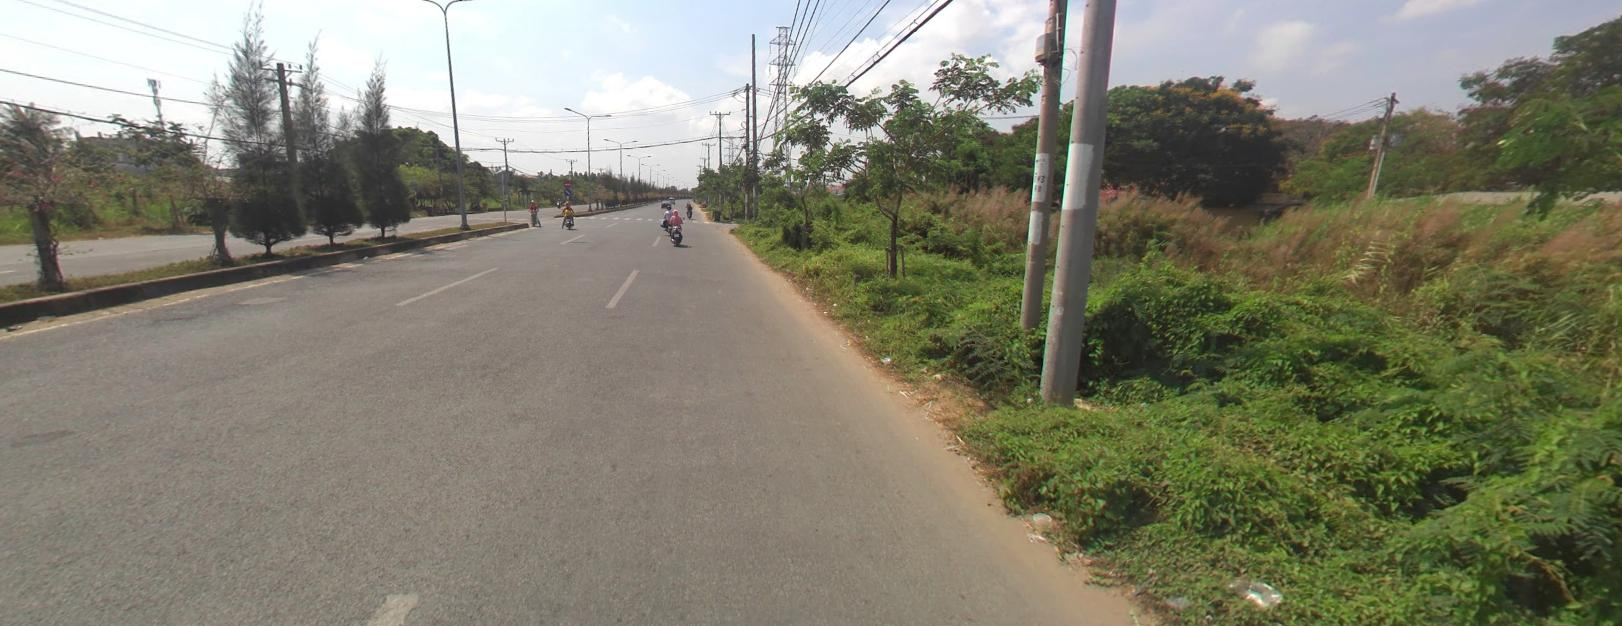Cam nguoc chieu: (563, 178, 570, 185)
Hieu lenh: (564, 187, 571, 193)
